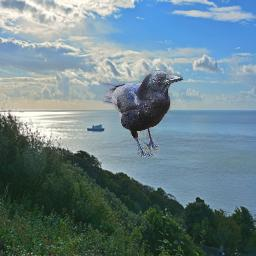Crow: (102, 70, 183, 157)
